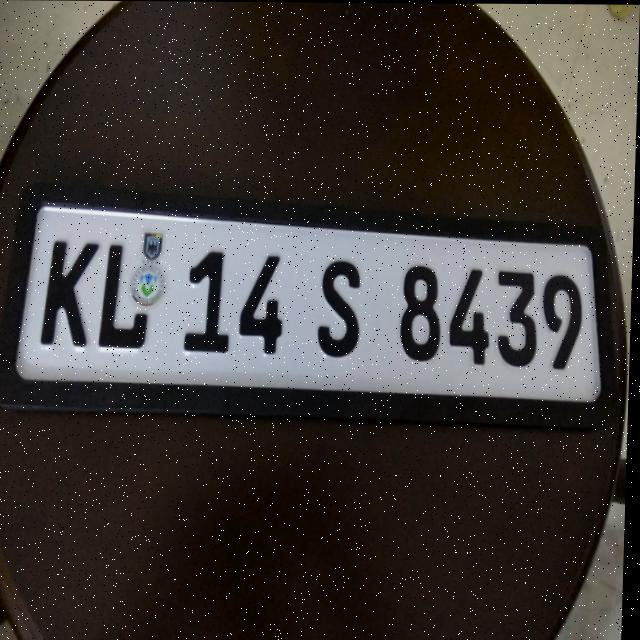plate: (0, 181, 624, 427)
